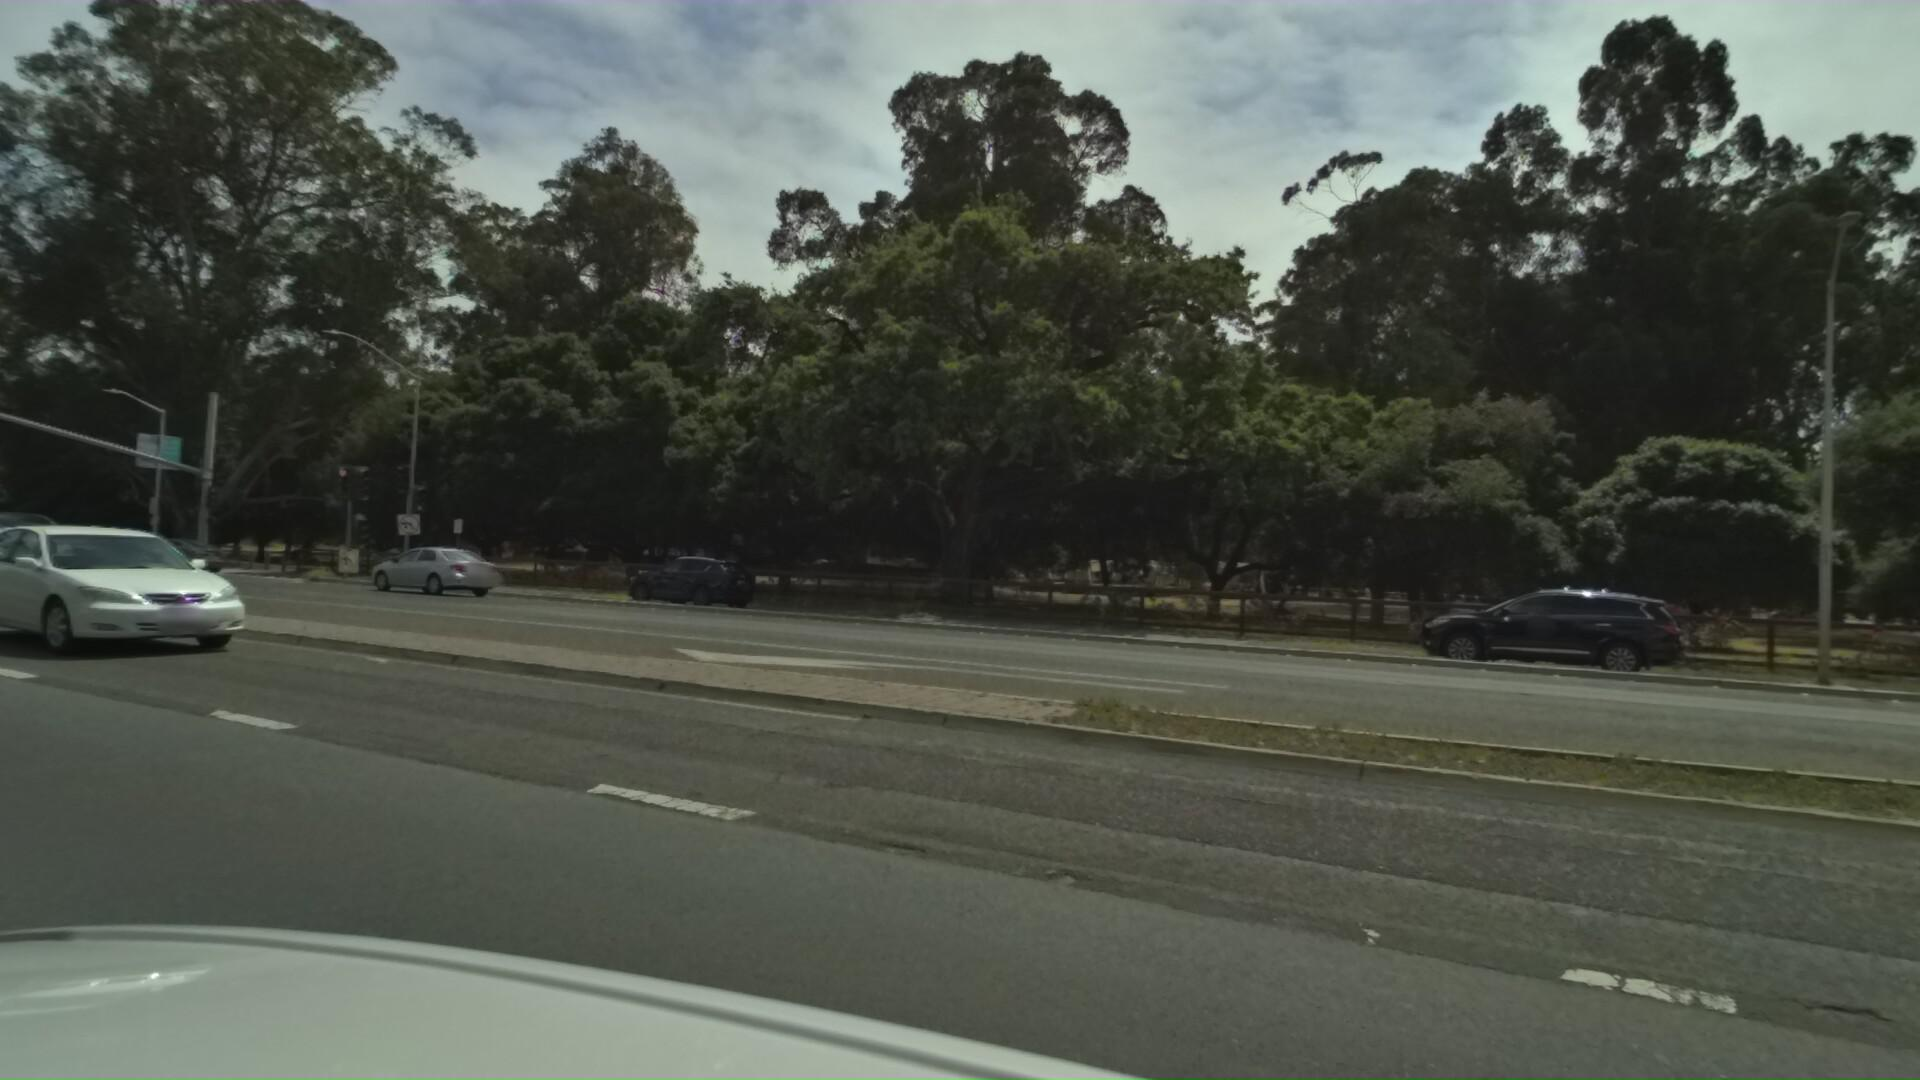car: (0, 467, 280, 676), (1352, 572, 1623, 673), (342, 539, 506, 601), (595, 551, 738, 609), (0, 506, 80, 591), (113, 537, 218, 574)
